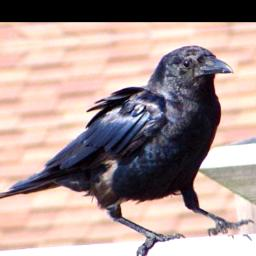Crow: (0, 41, 256, 256)
